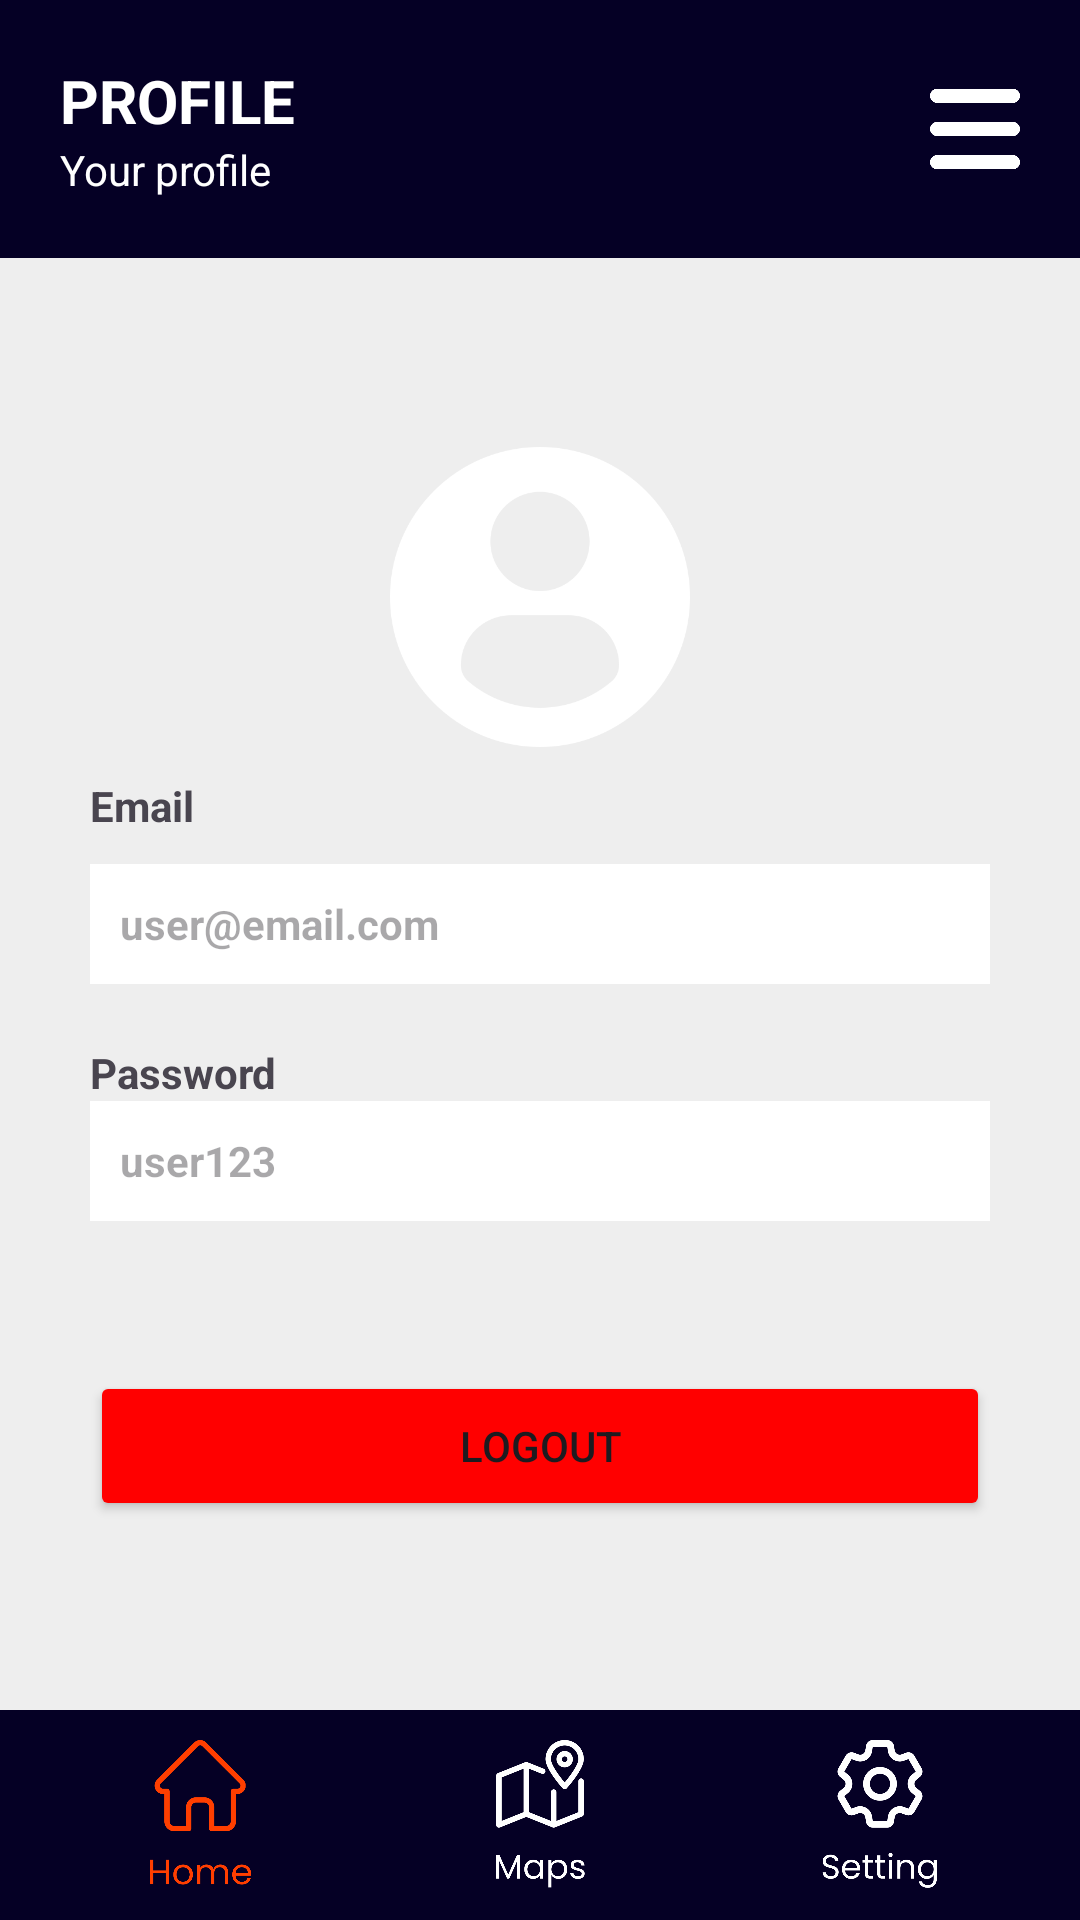

Icon click points for this 1080×1920 phone screenshot, format [x,y]:
hamburger menu: [975,129]
